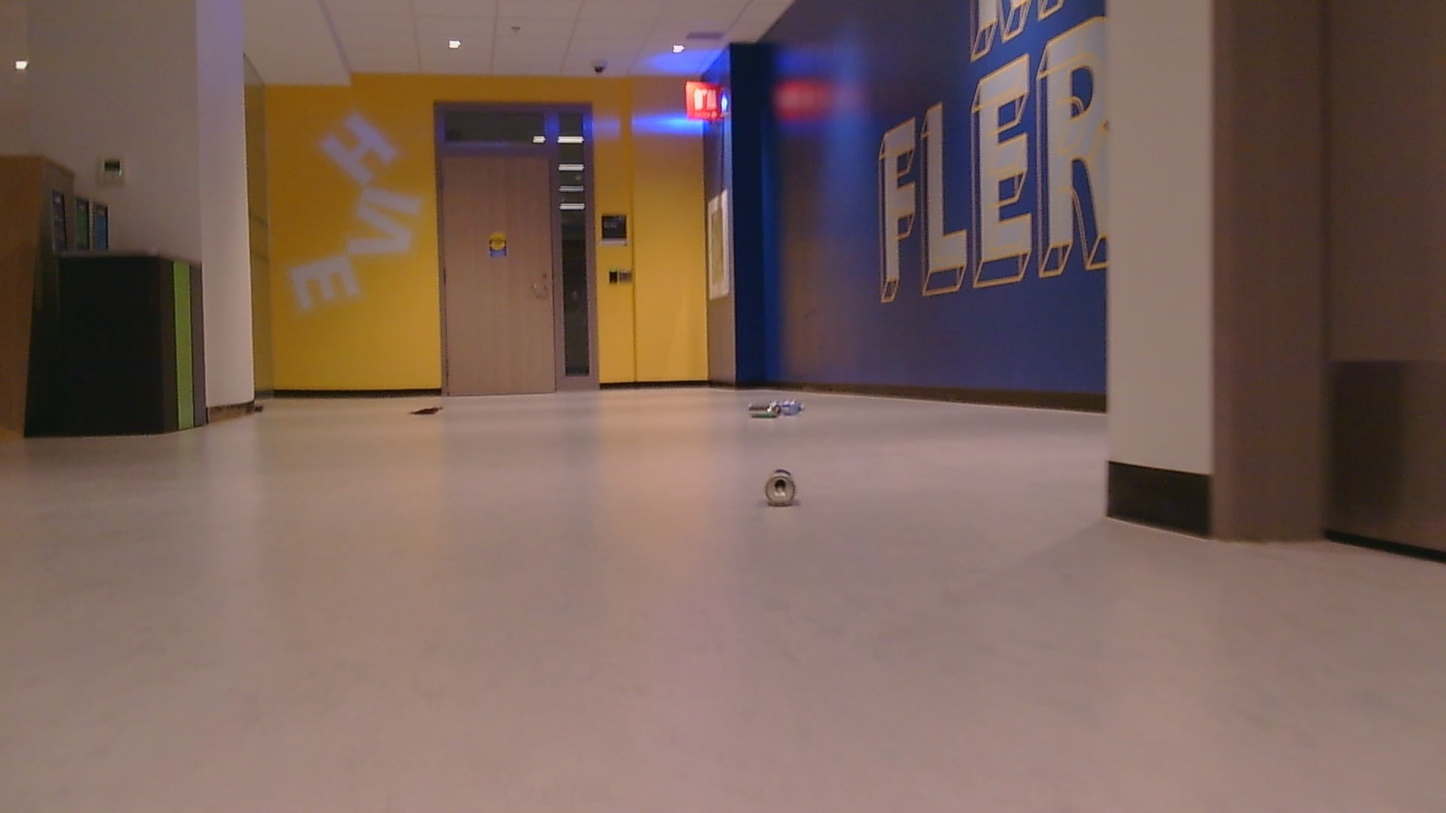can: (777, 497, 778, 498)
carton: (753, 455, 801, 508), (743, 397, 813, 419), (408, 403, 457, 418)
